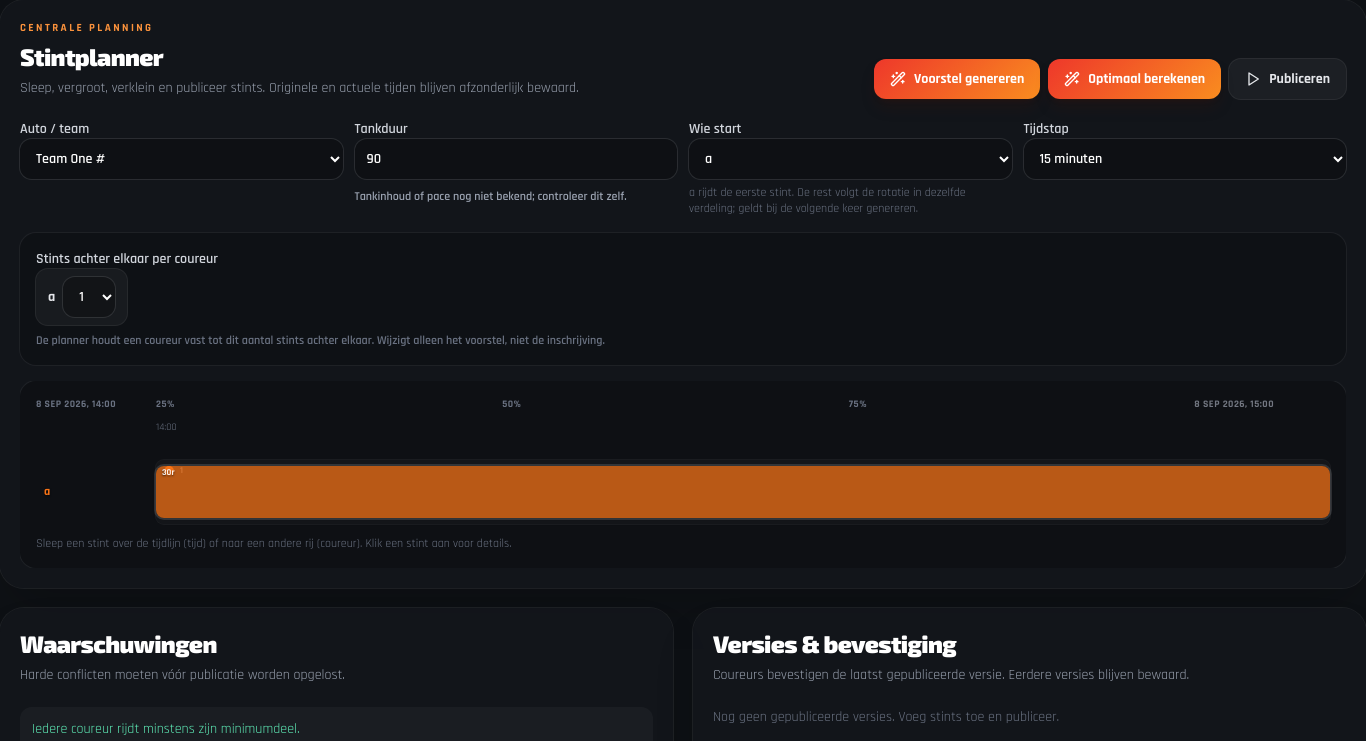
Test: shows a failed publication without a false success message
Click the button "Publiceren" at (1288, 79), box x1=1229 y1=59 x2=1346 y2=99
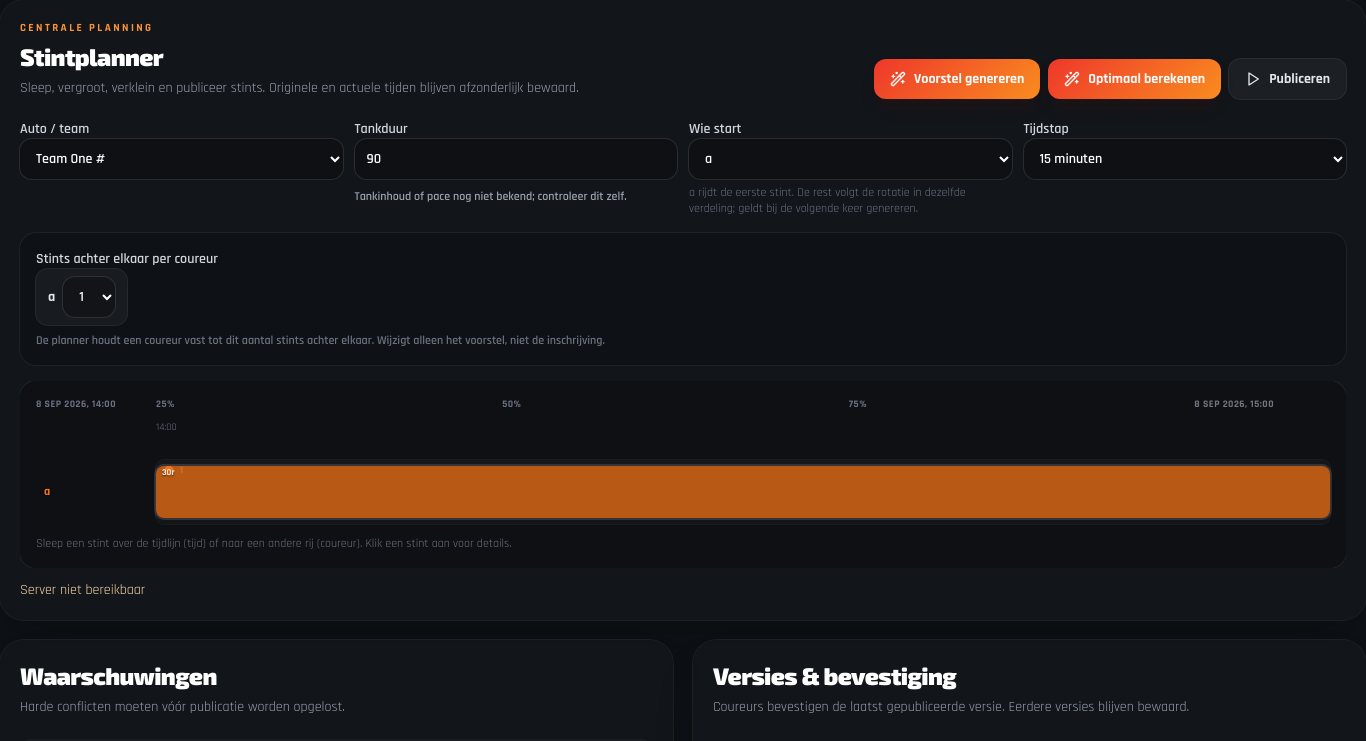
Now the text "Server niet bereikbaar" is shown, box x1=20 y1=581 x2=145 y2=599
